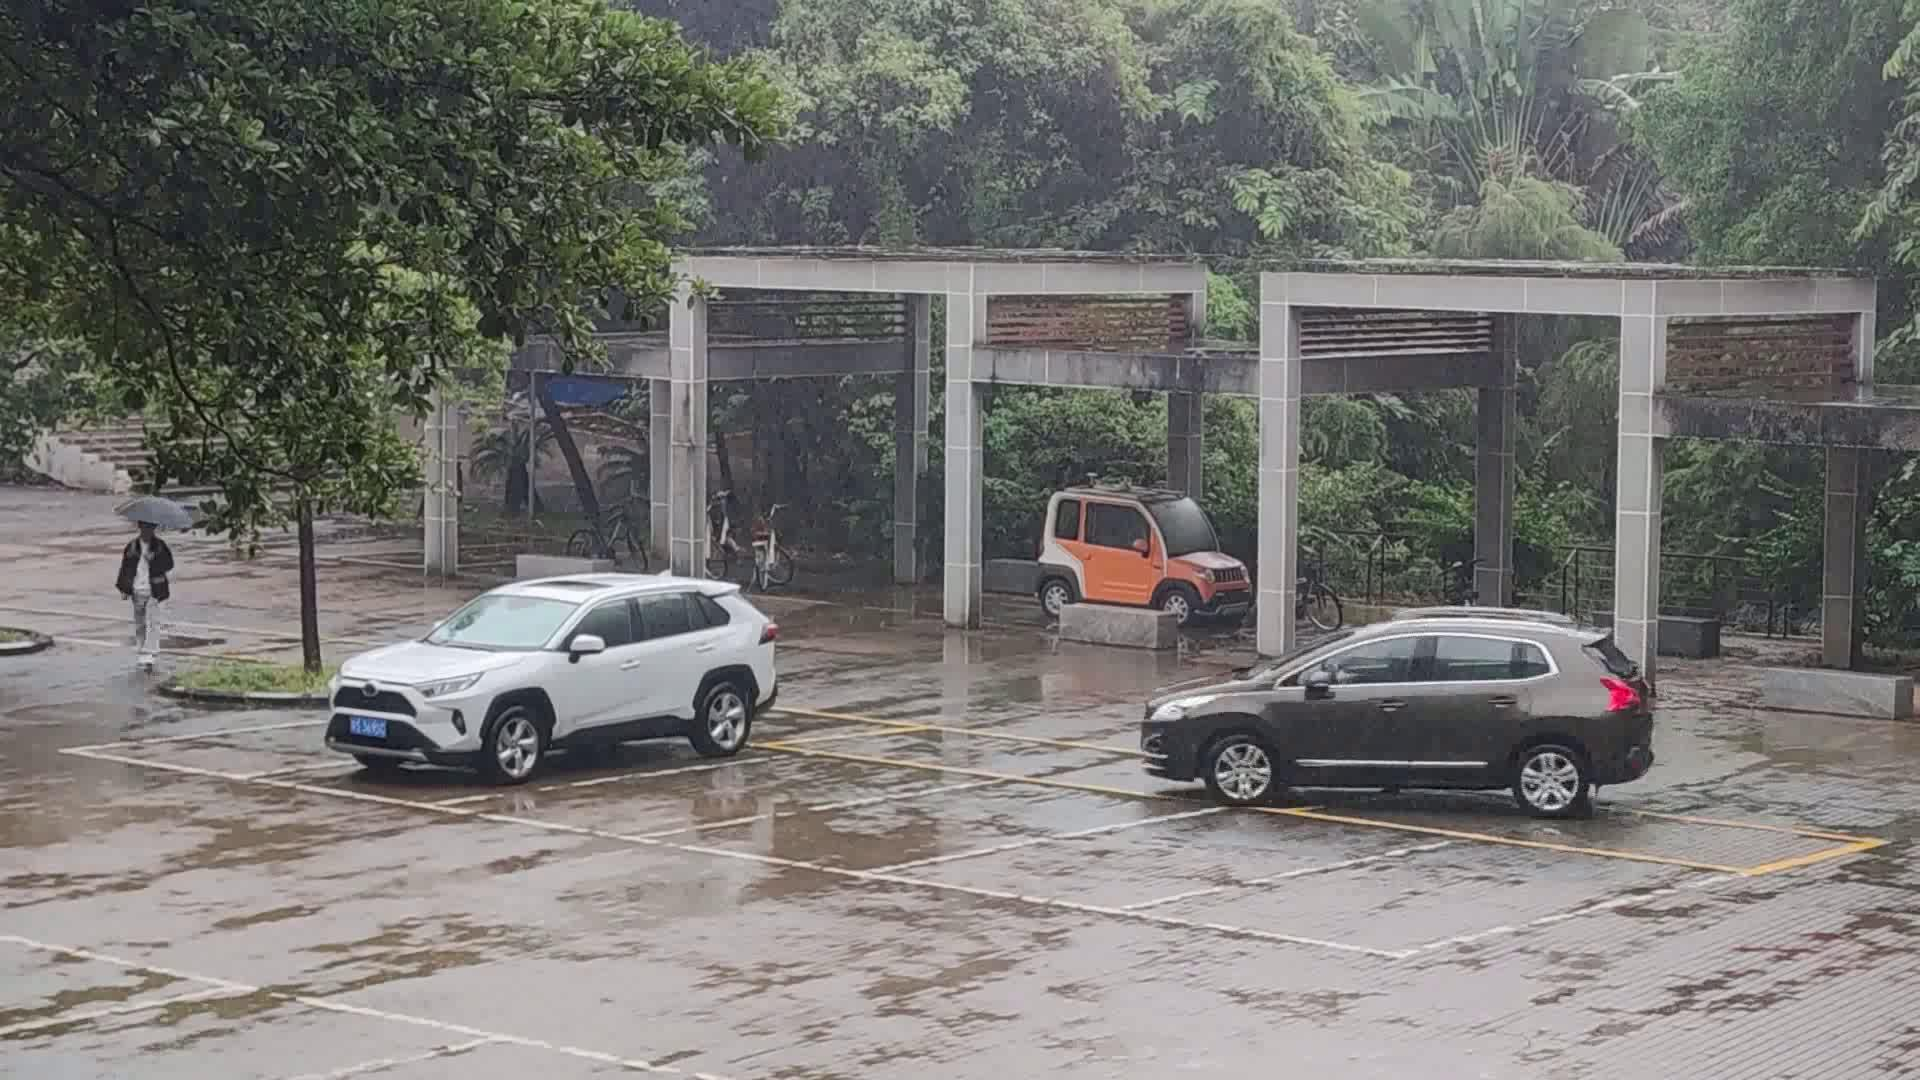space-empty: (1117, 832, 1734, 956), (870, 806, 1448, 911), (621, 782, 1238, 877), (756, 716, 1230, 818), (436, 762, 1004, 840)
space-occupied: (243, 738, 794, 806)
